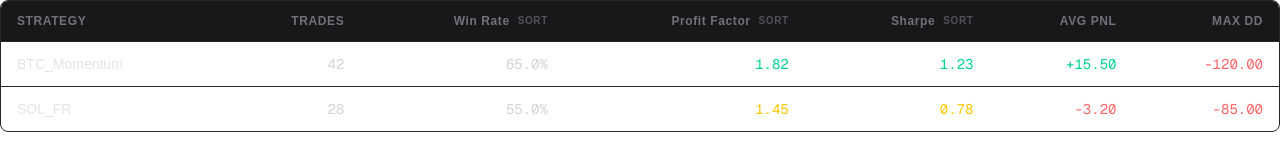
Test case: StrategyTable › resets sort when switching to different column
This screenshot has width=1280, height=160.
Click the button "Win Rate SORT". click: (501, 21)
box: [454,13,548,29]
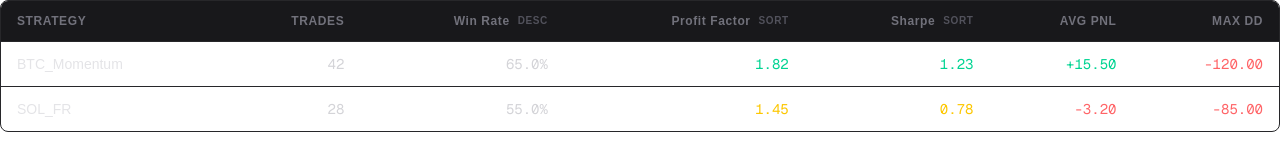
Click the button "Profit Factor SORT". click: (730, 21)
box: [671,13,789,29]
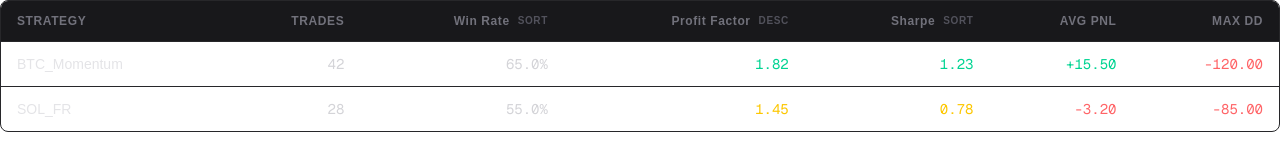
Expected: the text "SORT" is shown 2 times, [518,14,548,28]; [943,14,974,28]
Expected: the text "DESC" is shown, [759,14,789,28]
